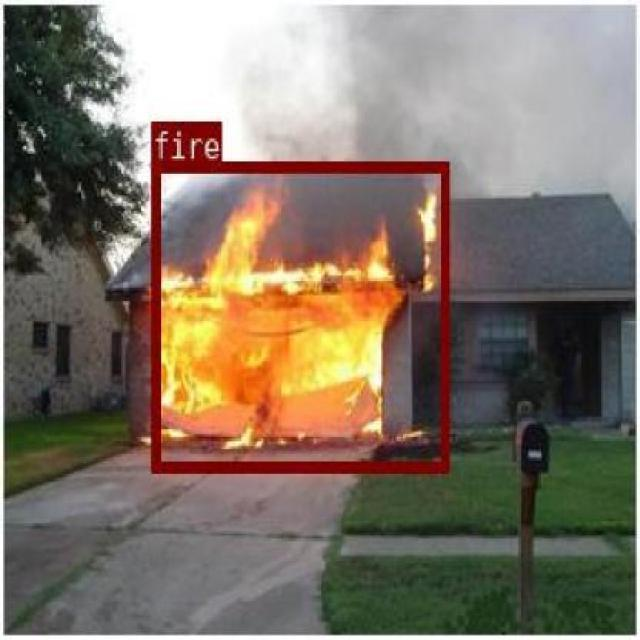Fire: (297, 309, 299, 314)
